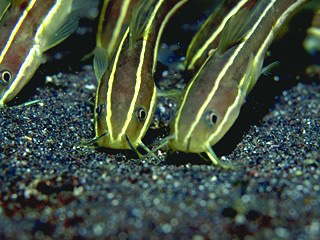gonzui: (82, 1, 178, 156)
